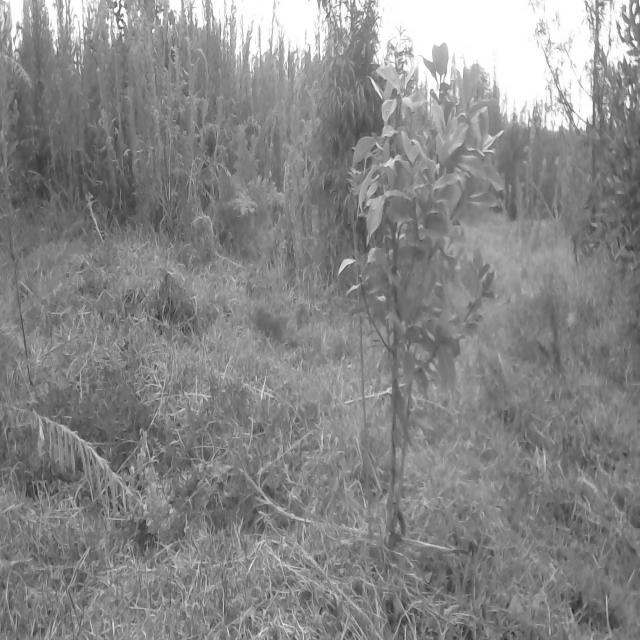Syzygium guinesis: (336, 0, 517, 597)
